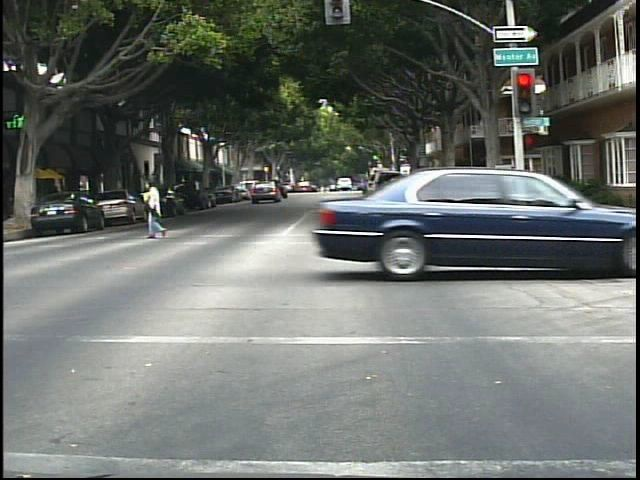person: (136, 172, 178, 243), (371, 172, 397, 217), (428, 165, 448, 204)
